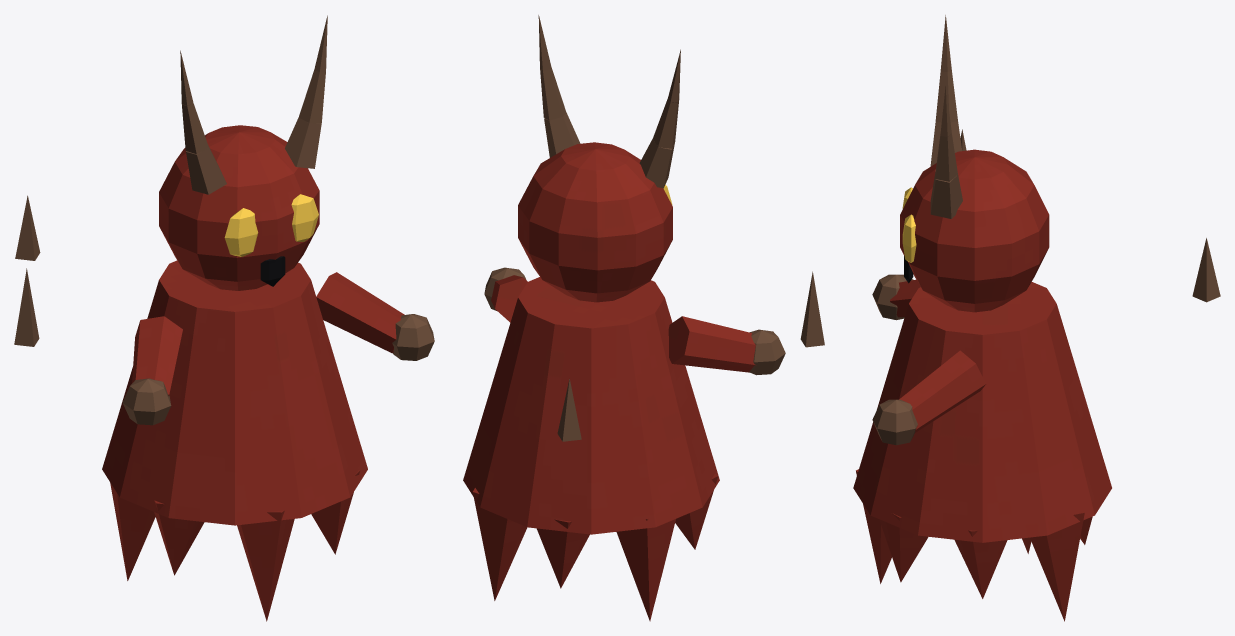
The model's file is pet_pt_dokkaebi.glb.
The picture shows the model from 3 angles, left to right: view 1: azimuth 30°, elevation 25°; view 2: azimuth 150°, elevation 25°; view 3: azimuth 270°, elevation 25°; orthographic projection. The views are drawn at different scales.
Visible parts, largest first — view 1: pet_pt_dokkaebi; view 2: pet_pt_dokkaebi; view 3: pet_pt_dokkaebi.
Part boxes in pixels (<box>): pet_pt_dokkaebi: <box>14,15,434,621</box>; pet_pt_dokkaebi: <box>463,15,824,621</box>; pet_pt_dokkaebi: <box>853,15,1220,621</box>.
Bounding box in the file's own units: 0.7062 × 0.9822 × 0.5998.
Materials: 4 (4 with a texture image).
